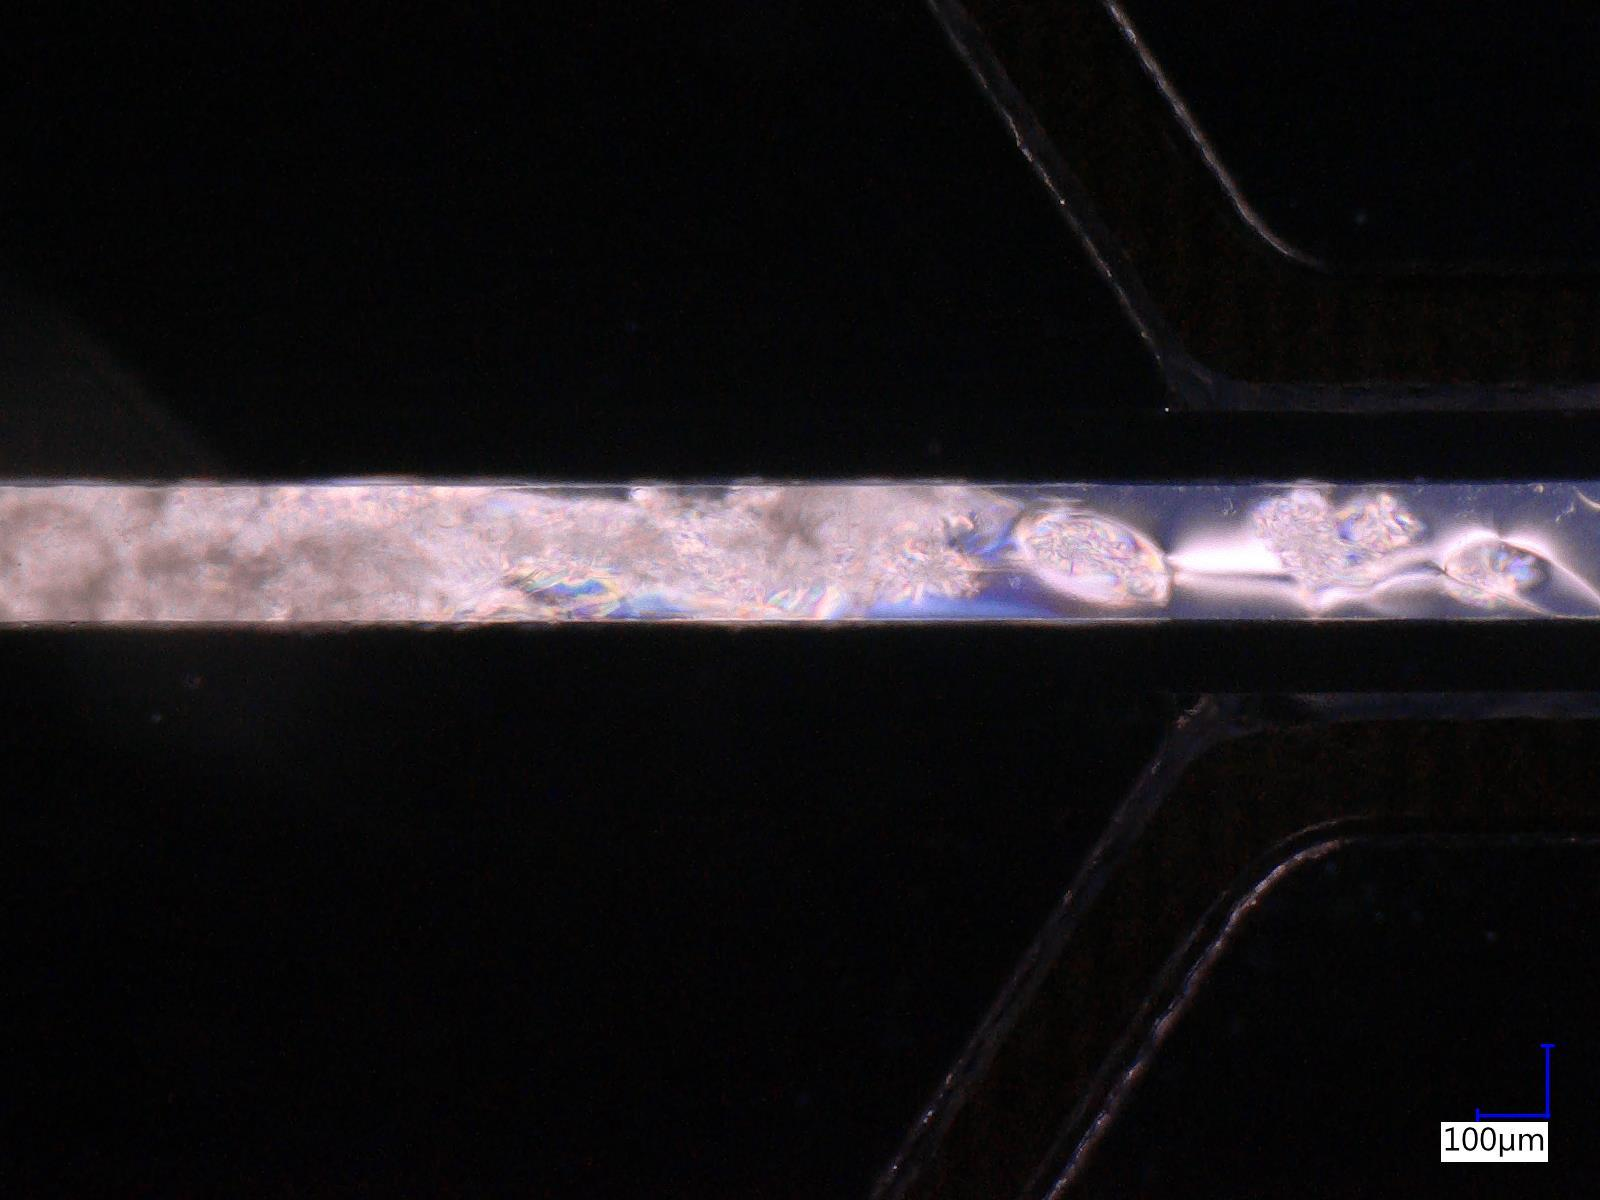sediment: (1, 485, 558, 621), (727, 482, 966, 591), (1019, 511, 1164, 603), (1260, 500, 1346, 585)
